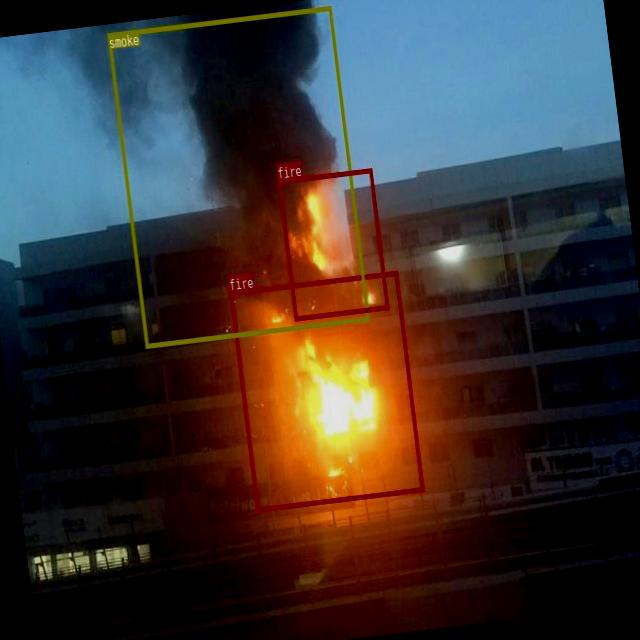fire: (228, 269, 424, 512), (277, 167, 389, 320)
smoke: (106, 5, 369, 347)
